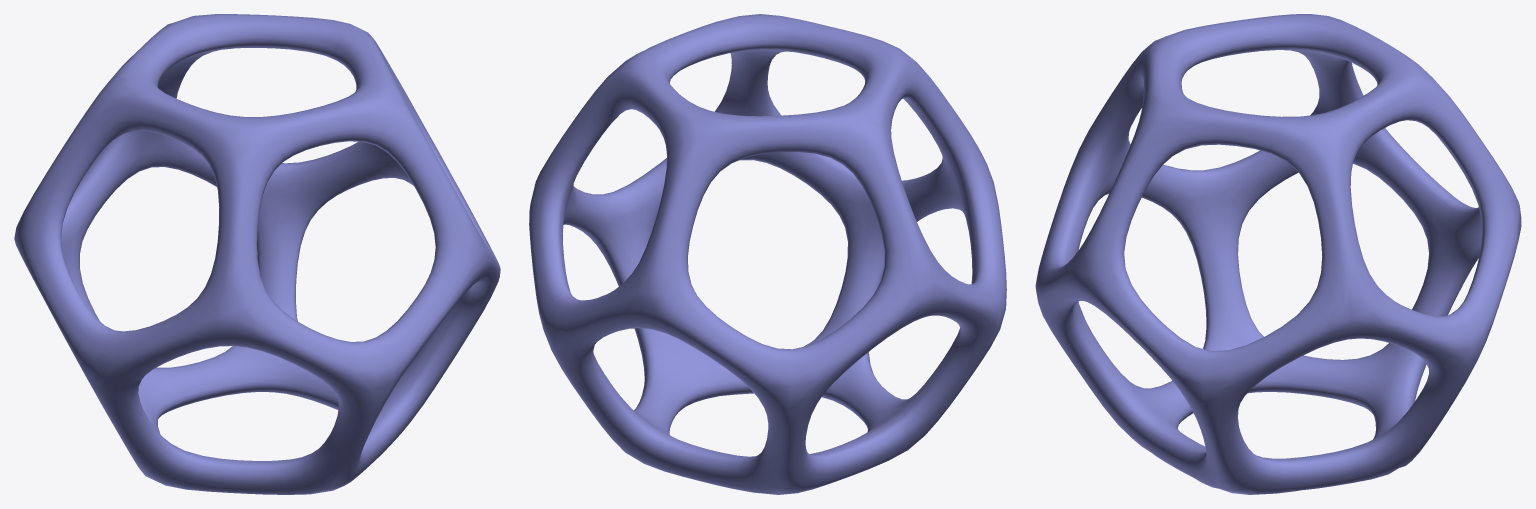
Rendered from DadecaedrLight.glb.
3 renders of one model, left to right at view 1: azimuth 30°, elevation 25°; view 2: azimuth 150°, elevation 25°; view 3: azimuth 270°, elevation 25°, orthographic.
Visible parts, largest first — view 1: Retopo_Dodecahedron; view 2: Retopo_Dodecahedron; view 3: Retopo_Dodecahedron.
Part boxes in pixels (x1=…): Retopo_Dodecahedron: x1=14, y1=14, x2=500, y2=494; Retopo_Dodecahedron: x1=529, y1=14, x2=1006, y2=494; Retopo_Dodecahedron: x1=1035, y1=14, x2=1521, y2=494.
Size of the model in its own units: 2.59 by 2.23 by 2.65.
Materials: 1 (1 with a texture image).
